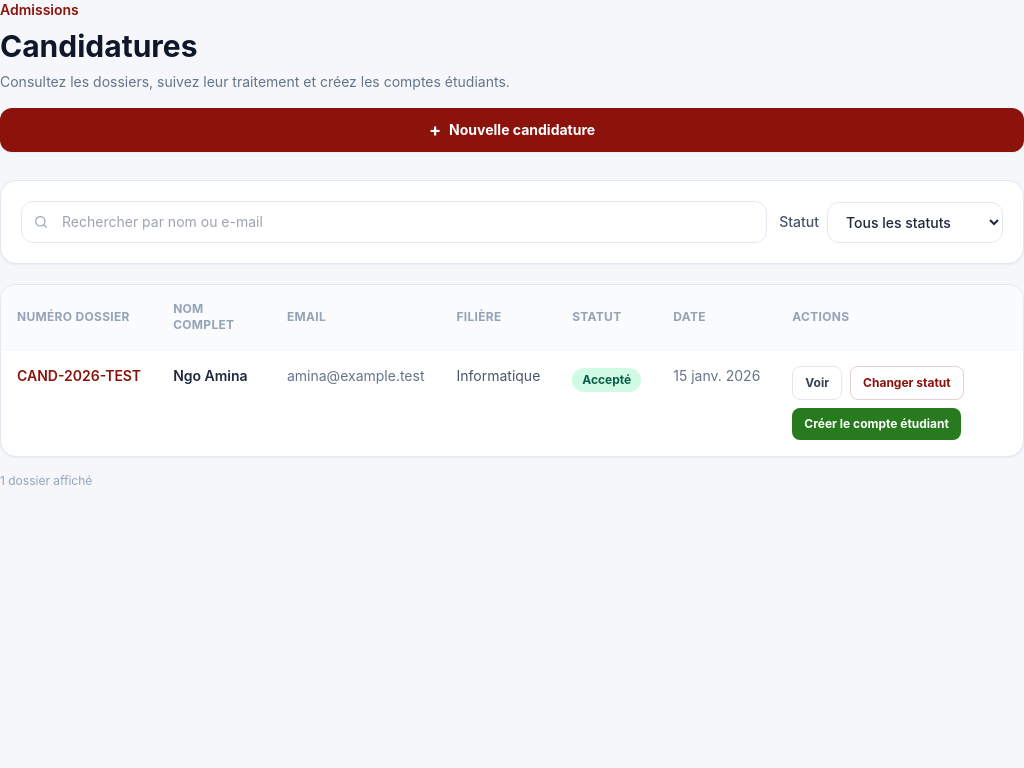
Test case: gestion des candidatures côté personnel › permet de relancer un envoi en échec et affiche son nouvel état
Click the button "Voir" at (817, 383), box [792,366,842,400]
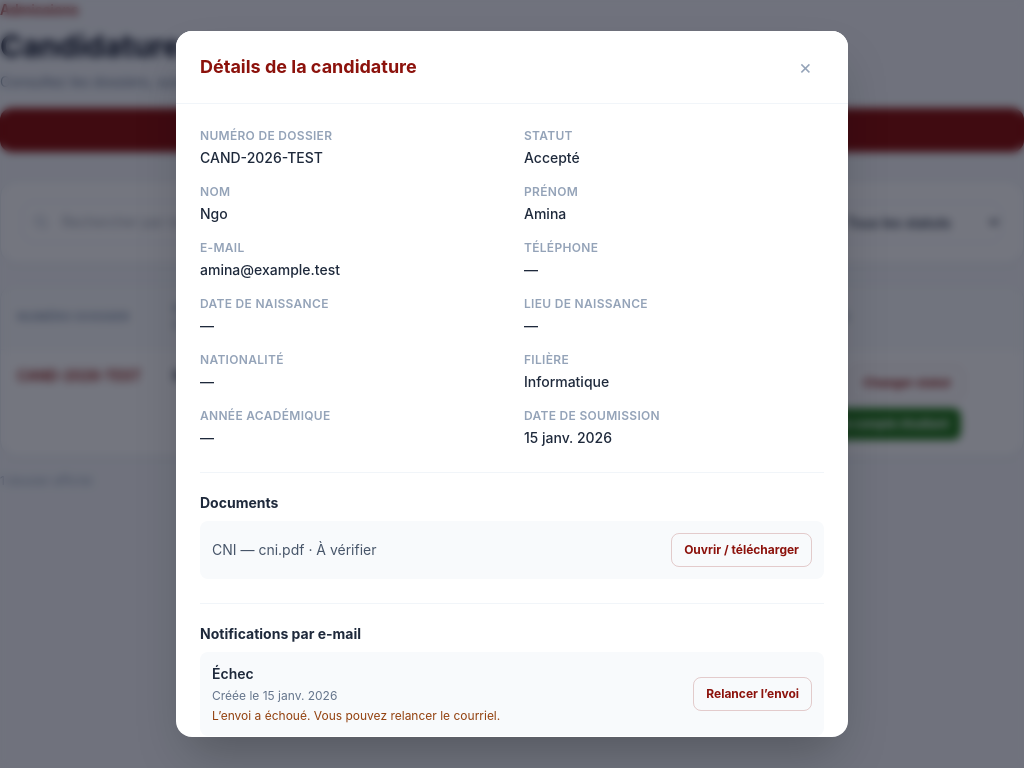
expect the button "Ouvrir / télécharger" is shown: met, box [671,533,812,567]
Click the button "Relancer l’envoi" at (753, 694), box [693,677,812,711]
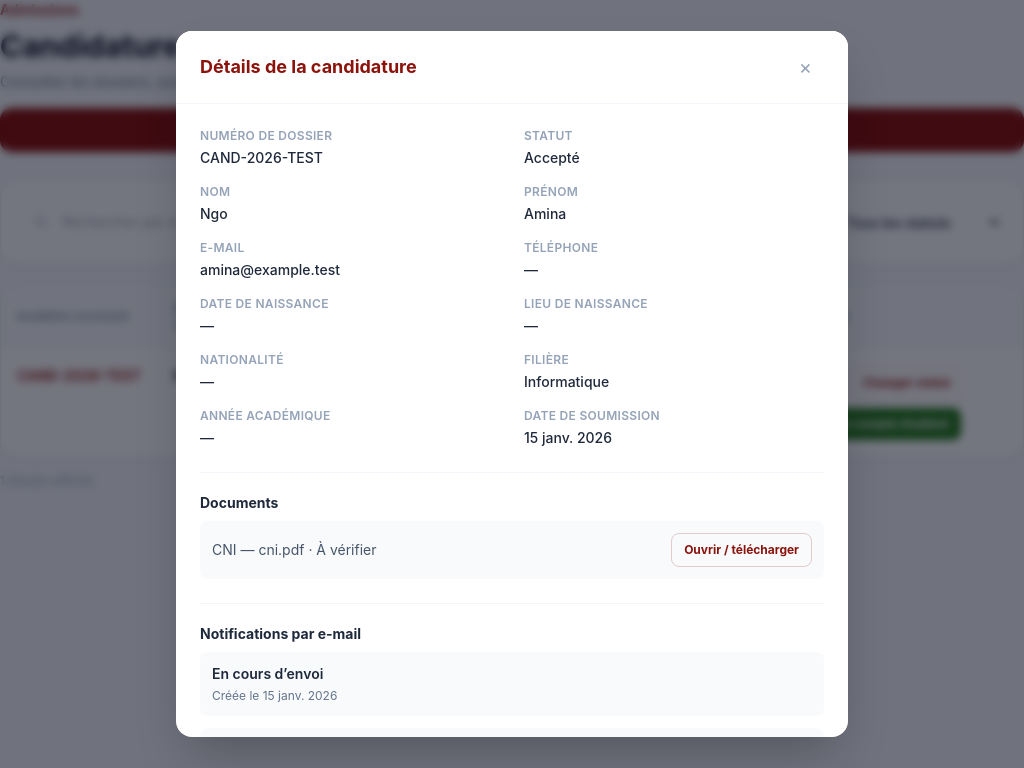
expect the text "En cours d’envoi" is shown: met, box [212,664,337,684]
expect the button "Relancer l’envoi" is gone: met
